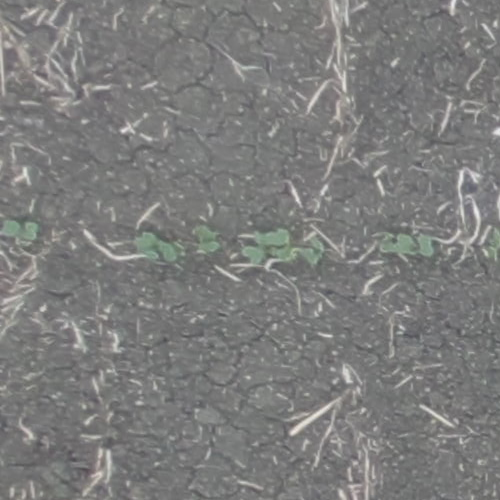isolated: (242, 231, 292, 263), (135, 231, 179, 262), (1, 218, 40, 245), (192, 223, 220, 255), (381, 231, 414, 257), (300, 237, 327, 265), (417, 232, 436, 259), (486, 226, 499, 260)
